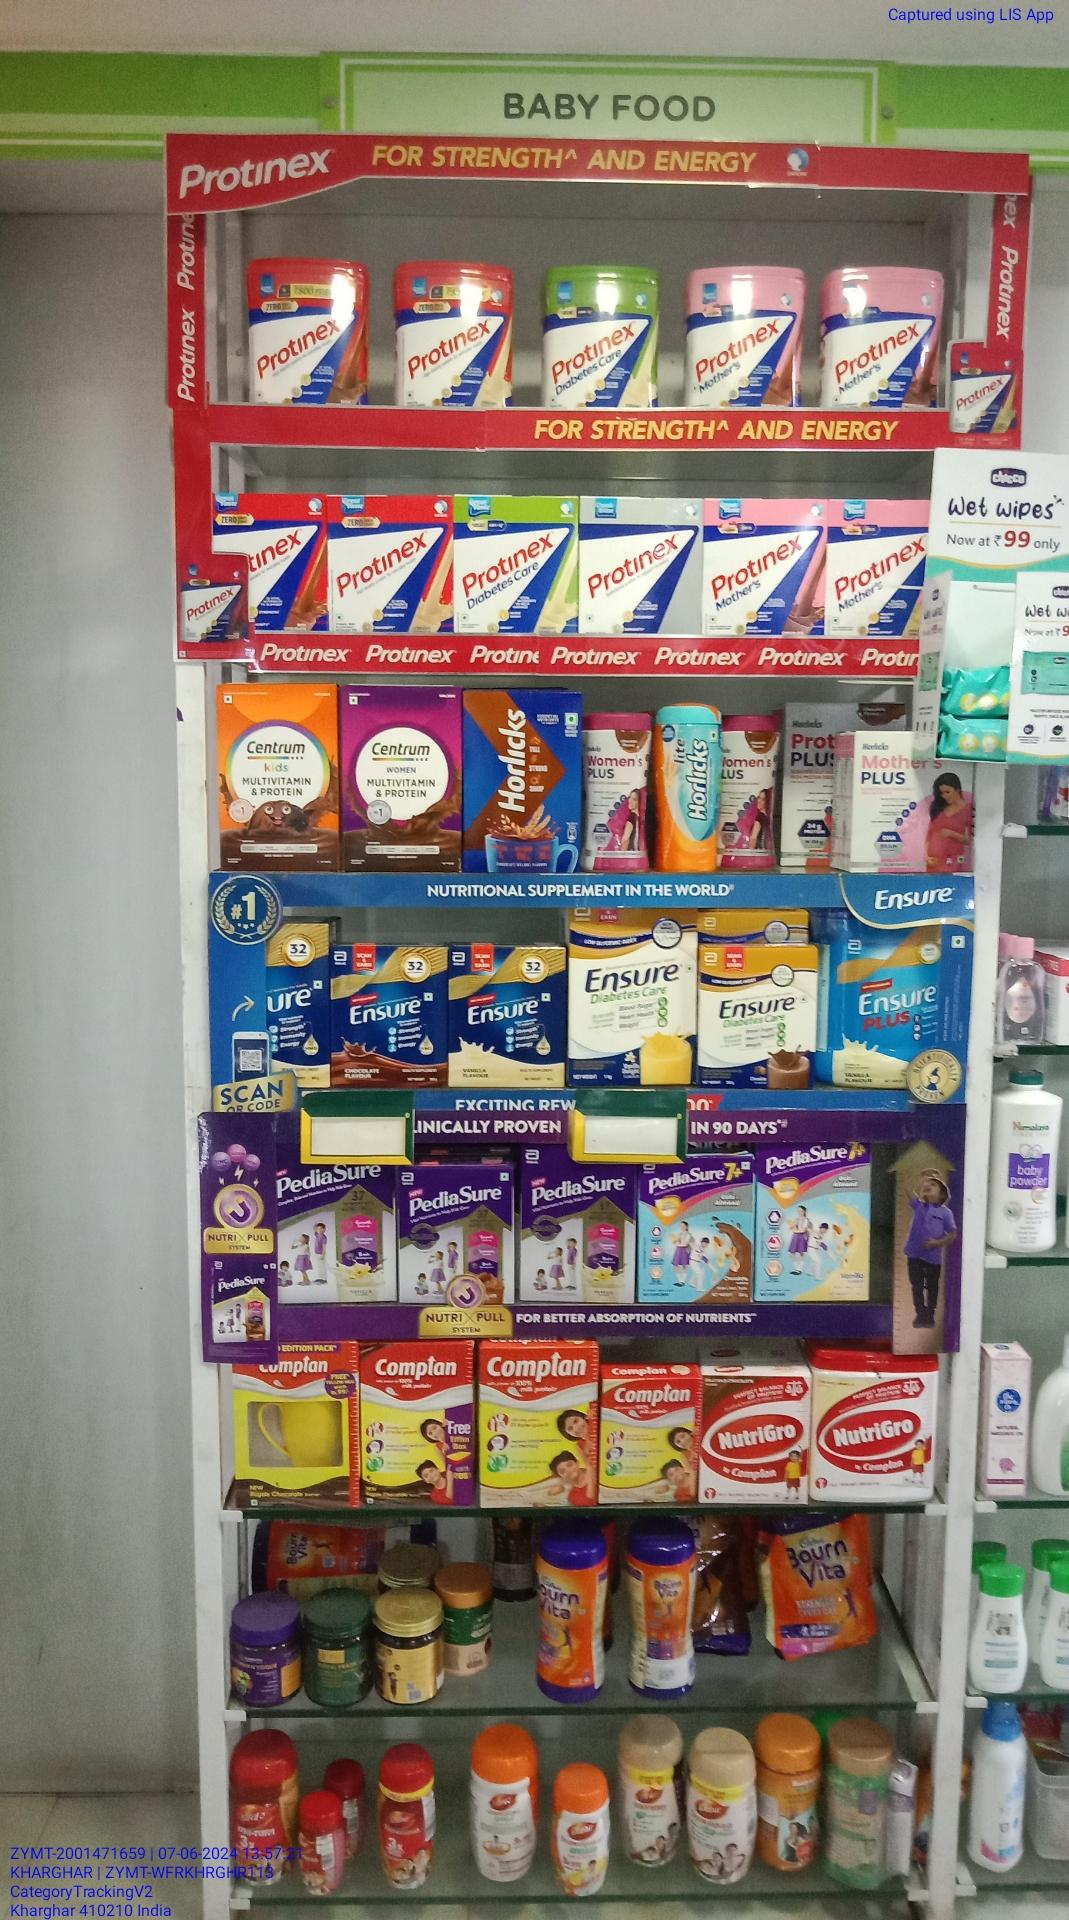BOURN_VITA_500_G_JAR: (537, 1546, 596, 1708), (639, 1541, 696, 1700)
COMPLAN_CHOCOLATE_500_GMS_PACK: (359, 1345, 475, 1508)
COMPLAN_KESAR_BADAM_200_GMS_PACK: (602, 1378, 700, 1500)
COMPLAN_KESAR_BADAM_500_GMS_PACK: (484, 1349, 599, 1507)
ENSURE_VANILLA_400_G_PACK: (449, 945, 565, 1088)
HORLICKS_LITE_REGULAR_MALT_500_GM_JAR: (656, 707, 724, 870)
HORLICK_CHOCOLATE_500_G_PACK: (463, 694, 582, 875)
PEDIASURE_7_PLUS_CHOCOLATE_400_G_PACK: (639, 1158, 752, 1304)
PEDIASURE_VANILLA_500_G_PACK: (270, 1150, 398, 1301), (524, 1146, 636, 1303)
PROTINEX_CHOCOLATE_400_G_JAR: (248, 257, 373, 405)
